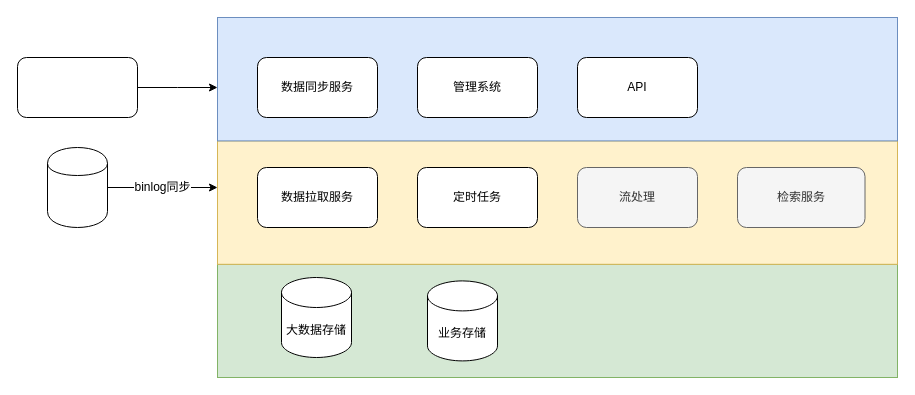
Image size: 915x395. Some labels were removed from this diagram. The centre of each missing label's shape, as x and y in pixels:
DB: pixel 77 187
应用: pixel 77 87
